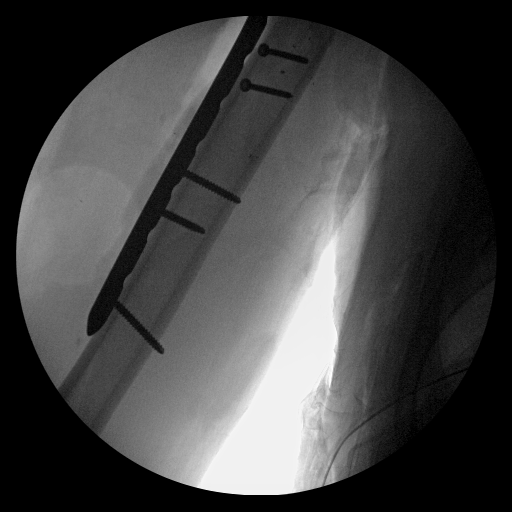implant: (88, 64, 249, 358)
